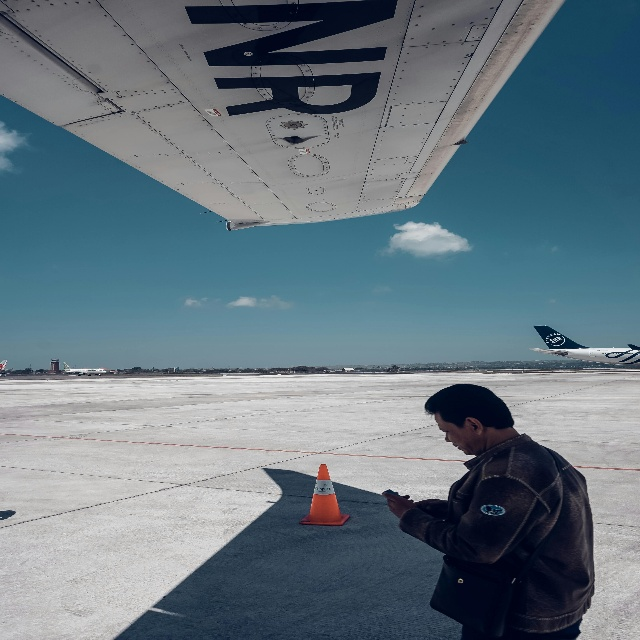Sin_guantes: (381, 491, 416, 519)
